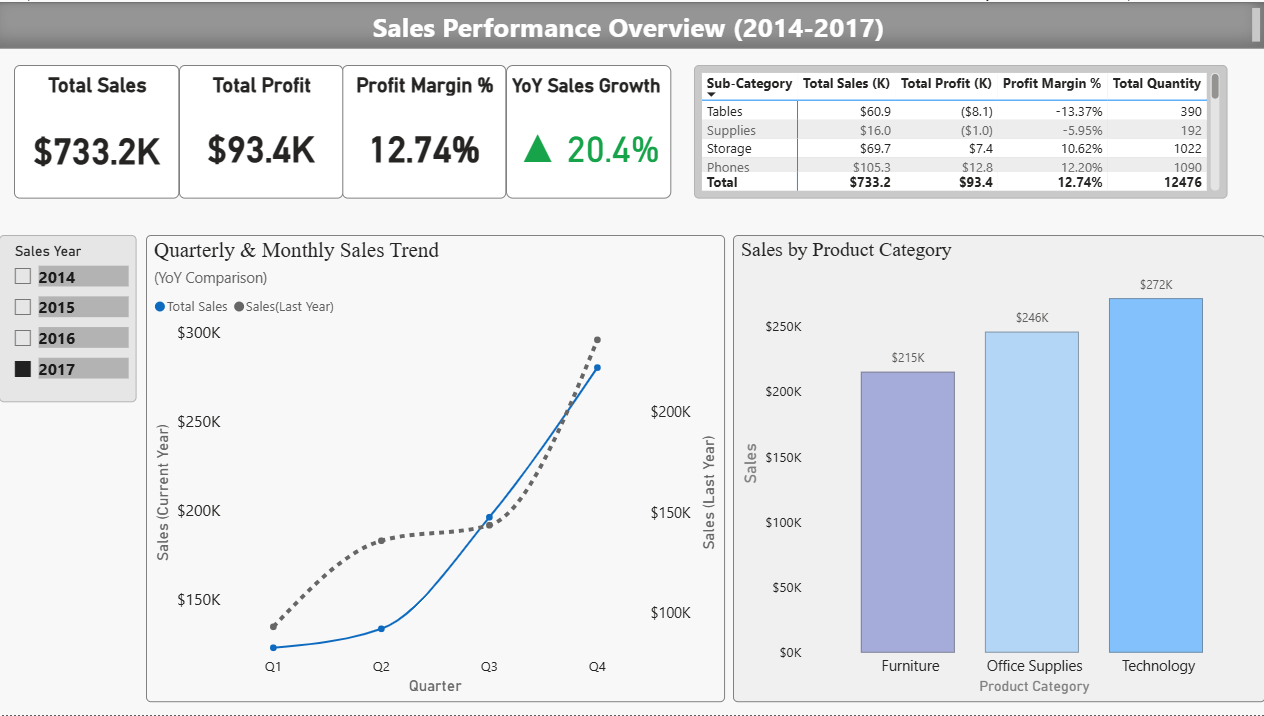

What the dashboard file says about the page in this screenshot:
{"tool":"powerbi","page":{"name":"Executive Summary","canvas":[1280,720],"ordinal":0},"visuals":[{"type":"card","title":"YoY Sales Growth","fields":{"Values":["All Measures.YoY Display2"]},"box":[512.5,63.8,166.7,134.9],"z":0},{"type":"card","title":"Profit Margin %","fields":{"Values":["All Measures.Profit Margin %"]},"box":[347,63.8,165.5,134.9],"z":1000},{"type":"card","title":"Total Profit","fields":{"Values":["All Measures.Total Profit"]},"box":[181.5,63.8,165.5,134.9],"z":2000},{"type":"card","title":"Total Sales","fields":{"Values":["All Measures.Total Sales"]},"box":[14.7,63.8,166.7,134.9],"z":3000},{"type":"textbox","box":[0,0,1280,46.6],"z":4000},{"type":"lineChart","title":"Quarterly & Monthly Sales Trend","fields":{"Y":["All Measures.Total Sales"],"Y2":["All Measures.Sales(Last Year)"],"Category":["Calendar.Year","Calendar.Quarter","Calendar.Month Year"]},"box":[148.2,235.5,584.7,472],"z":5000},{"type":"slicer","fields":{"Values":["Calendar.Year"]},"box":[0,235.4,138.5,169.2],"z":6000},{"type":"clusteredColumnChart","title":"Sales by Product Category","fields":{"Category":["Dim_Product.Category","Dim_Product.Sub-Category"],"Y":["All Measures.Total Sales"]},"box":[741.8,235.4,538.2,472],"z":7000},{"type":"pivotTable","fields":{"Rows":["Dim_Product.Sub-Category"],"Values":["All Measures.Total Sales (K)","All Measures.Total Profit (K)","All Measures.Profit Margin %","All Measures.Total Quantity"]},"box":[702.5,63.8,539.5,134.9],"z":8000}]}

Visuals, with their boxes in screenshot pixels (x1, y1, x2, y2), scaled from the page's 1280x720 canvas onto the 1264x716 screenshot:
"YoY Sales Growth" card: {"x1": 506, "y1": 63, "x2": 671, "y2": 198}
"Profit Margin %" card: {"x1": 343, "y1": 63, "x2": 506, "y2": 198}
"Total Profit" card: {"x1": 179, "y1": 63, "x2": 343, "y2": 198}
"Total Sales" card: {"x1": 15, "y1": 63, "x2": 179, "y2": 198}
textbox: {"x1": 0, "y1": 0, "x2": 1263, "y2": 46}
"Quarterly & Monthly Sales Trend" lineChart: {"x1": 146, "y1": 234, "x2": 724, "y2": 704}
slicer - Calendar.Year: {"x1": 0, "y1": 234, "x2": 137, "y2": 402}
"Sales by Product Category" clusteredColumnChart: {"x1": 733, "y1": 234, "x2": 1263, "y2": 703}
pivotTable - Dim_Product.Sub-Category x All Measures.Total Sales (K): {"x1": 694, "y1": 63, "x2": 1226, "y2": 198}
